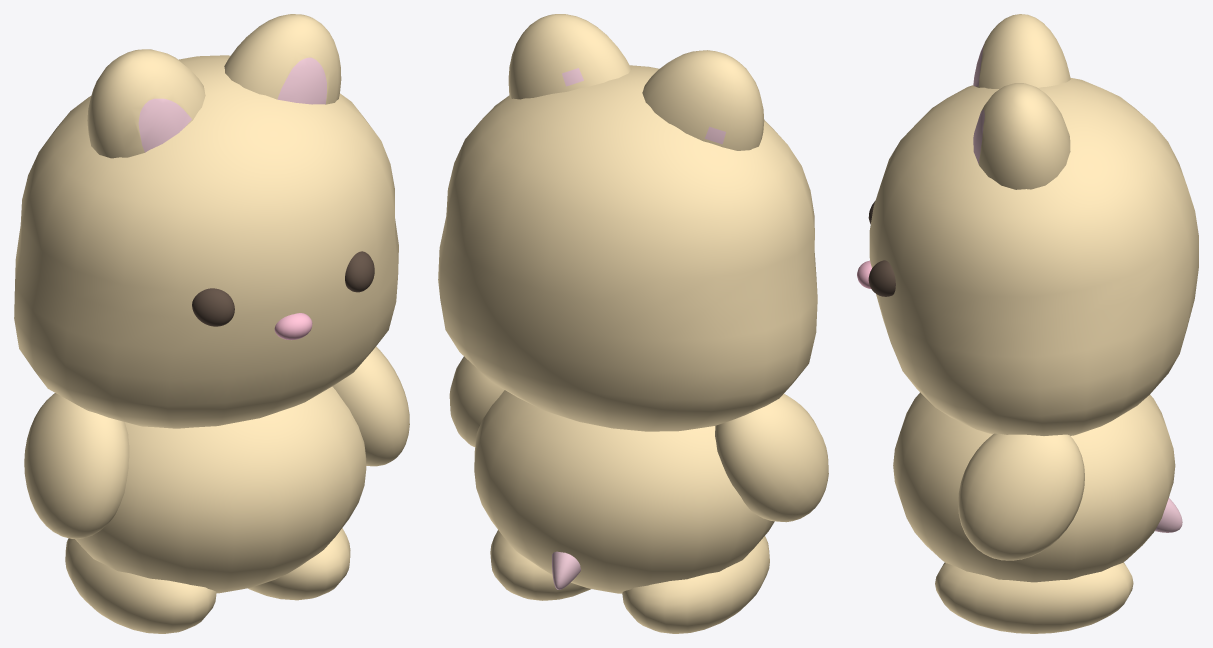
The model's file is ham.glb.
The picture shows the model from 3 angles, left to right: view 1: azimuth 30°, elevation 25°; view 2: azimuth 150°, elevation 25°; view 3: azimuth 270°, elevation 25°; orthographic projection. The views are drawn at different scales.
Parts seen in each view (by area): view 1: pSphere1, pSphere2, pSphere20, pSphere19, pSphere15, pSphere18, pSphere5, pSphere7, pSphere13, pSphere12; view 2: pSphere1, pSphere2, pSphere20, pSphere19, pSphere15, pSphere18, pSphere7, pSphere5, pSphere9; view 3: pSphere1, pSphere2, pSphere5, pSphere7, pSphere15, pSphere19, pSphere13, pSphere9.
Boxes of the visible parts, x1,y1,x2,y2 form: pSphere1: (14, 55, 398, 428); pSphere2: (75, 386, 366, 593); pSphere20: (24, 393, 129, 538); pSphere19: (87, 49, 205, 158); pSphere15: (224, 14, 341, 104); pSphere18: (65, 538, 216, 633); pSphere5: (332, 346, 409, 466); pSphere7: (248, 528, 350, 600); pSphere13: (192, 251, 374, 326); pSphere12: (274, 313, 312, 340); pSphere1: (438, 65, 817, 431); pSphere2: (474, 390, 774, 593); pSphere20: (715, 394, 828, 522); pSphere19: (642, 50, 764, 150); pSphere15: (508, 14, 631, 99); pSphere18: (622, 536, 769, 633); pSphere7: (490, 530, 590, 600); pSphere5: (449, 356, 504, 446); pSphere9: (552, 551, 580, 589); pSphere1: (869, 77, 1198, 435); pSphere2: (893, 392, 1175, 582); pSphere5: (958, 433, 1084, 560); pSphere7: (935, 562, 1133, 633); pSphere15: (973, 83, 1070, 189); pSphere19: (973, 14, 1070, 89); pSphere13: (868, 201, 895, 296); pSphere9: (1155, 498, 1182, 532).
Size of the model in its own units: 0.0403 by 0.0605 by 0.0344.
